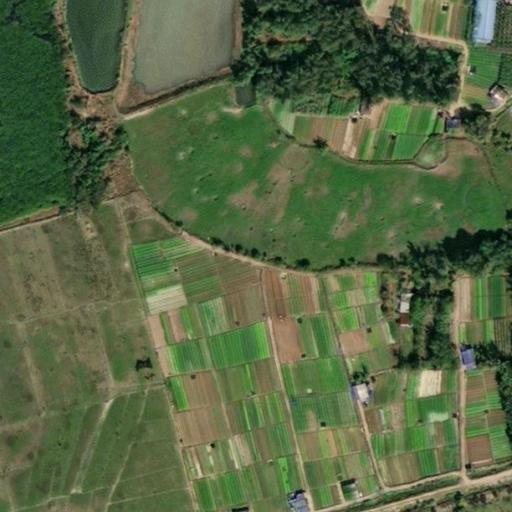building: (483, 77, 509, 103), (341, 381, 366, 407), (286, 488, 310, 512), (473, 0, 484, 39), (451, 350, 471, 370), (467, 2, 476, 38), (333, 483, 352, 499), (391, 312, 403, 325), (390, 302, 403, 313), (227, 508, 240, 512)
